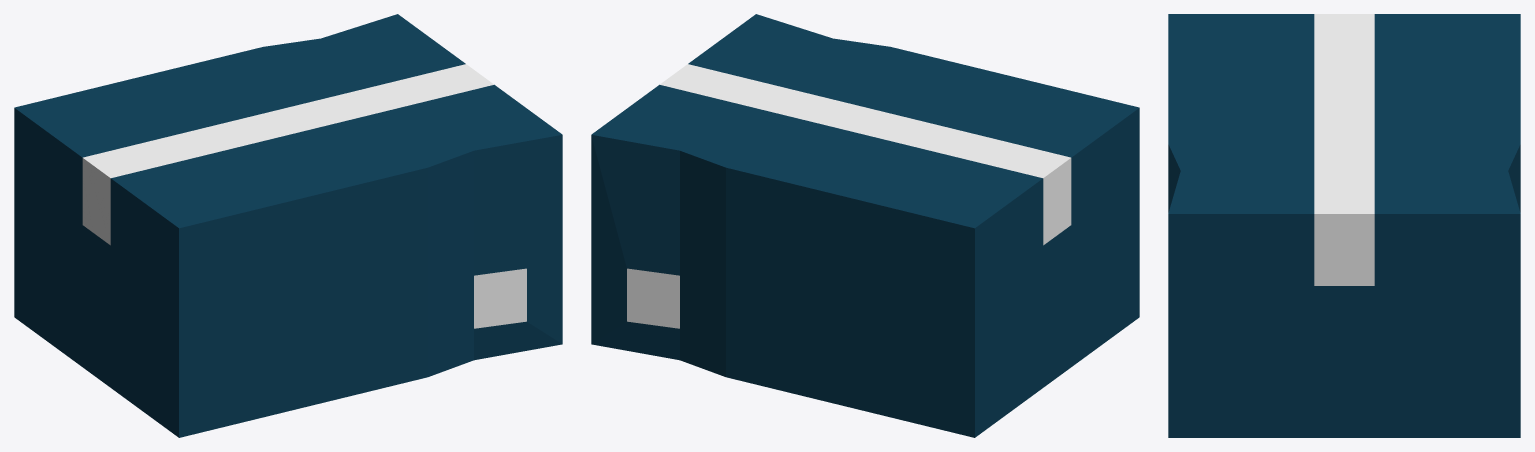
The model's file is CardboardBoxes_1.fbx.
3 renders of one model, left to right at view 1: azimuth 30°, elevation 25°; view 2: azimuth 150°, elevation 25°; view 3: azimuth 270°, elevation 25°, orthographic. The views are drawn at different scales.
Parts seen in each view (by area): view 1: CardboardBoxes_1; view 2: CardboardBoxes_1; view 3: CardboardBoxes_1.
Boxes of the visible parts, x1=… form: CardboardBoxes_1: x1=14, y1=14, x2=562, y2=437; CardboardBoxes_1: x1=591, y1=14, x2=1139, y2=437; CardboardBoxes_1: x1=1168, y1=14, x2=1520, y2=437.
Size of the model in its own units: 0.9755 by 0.5093 by 0.7265.
